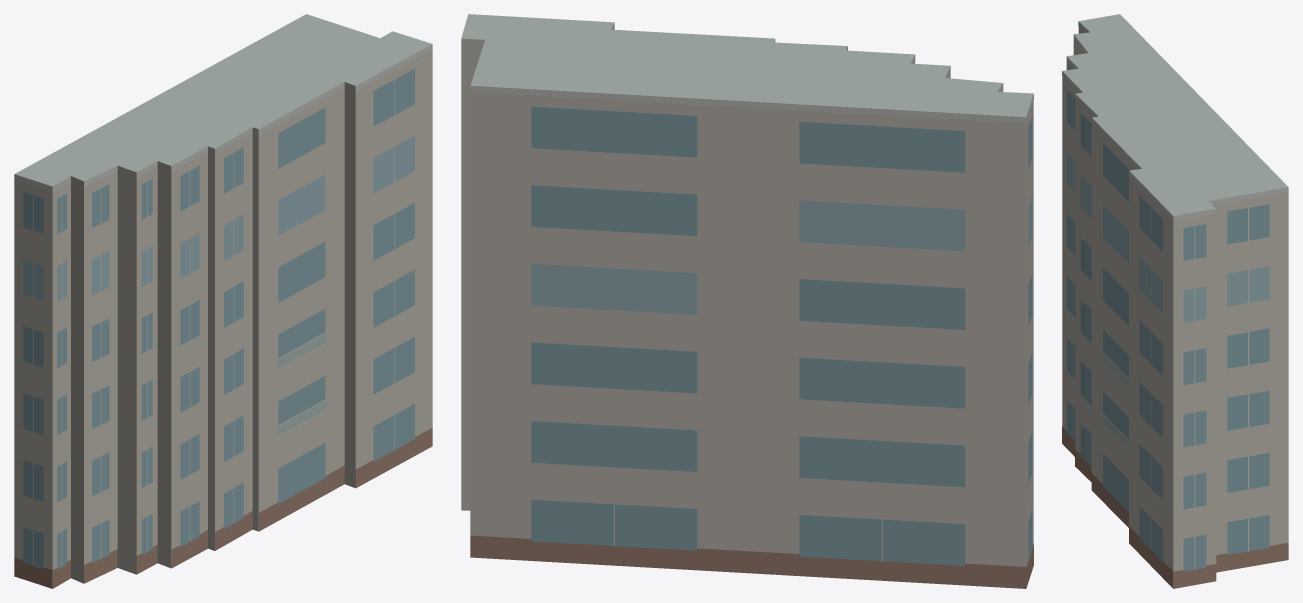
File: survey-upis-32879342.glb
The picture shows the model from 3 angles, left to right: view 1: azimuth 30°, elevation 25°; view 2: azimuth 150°, elevation 25°; view 3: azimuth 270°, elevation 25°; orthographic projection. The views are drawn at different scales.
Parts seen in each view (by area): view 1: survey-upis-32879342.tmp; view 2: survey-upis-32879342.tmp; view 3: survey-upis-32879342.tmp.
Boxes of the visible parts, x1,y1,x2,y2 form: survey-upis-32879342.tmp: (14, 14, 432, 588); survey-upis-32879342.tmp: (461, 14, 1033, 588); survey-upis-32879342.tmp: (1062, 14, 1288, 588).
Bounding box in the file's own units: 21.29 × 18.3 × 10.09.
